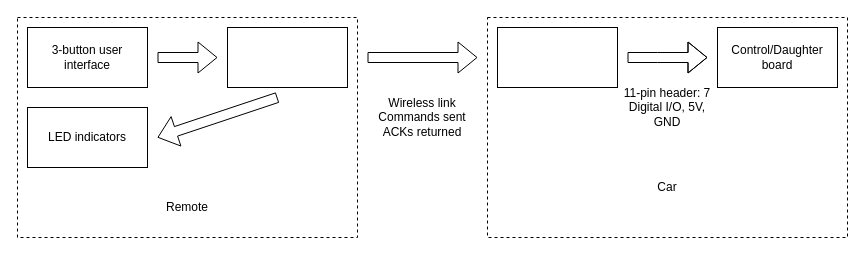
This 865x255 diagram has some shape labels left out. The centre of each missing label's shape, as x and y in pixels:
"Car radio" belongs at point 557,57.
"Remote Radio" belongs at point 287,57.
